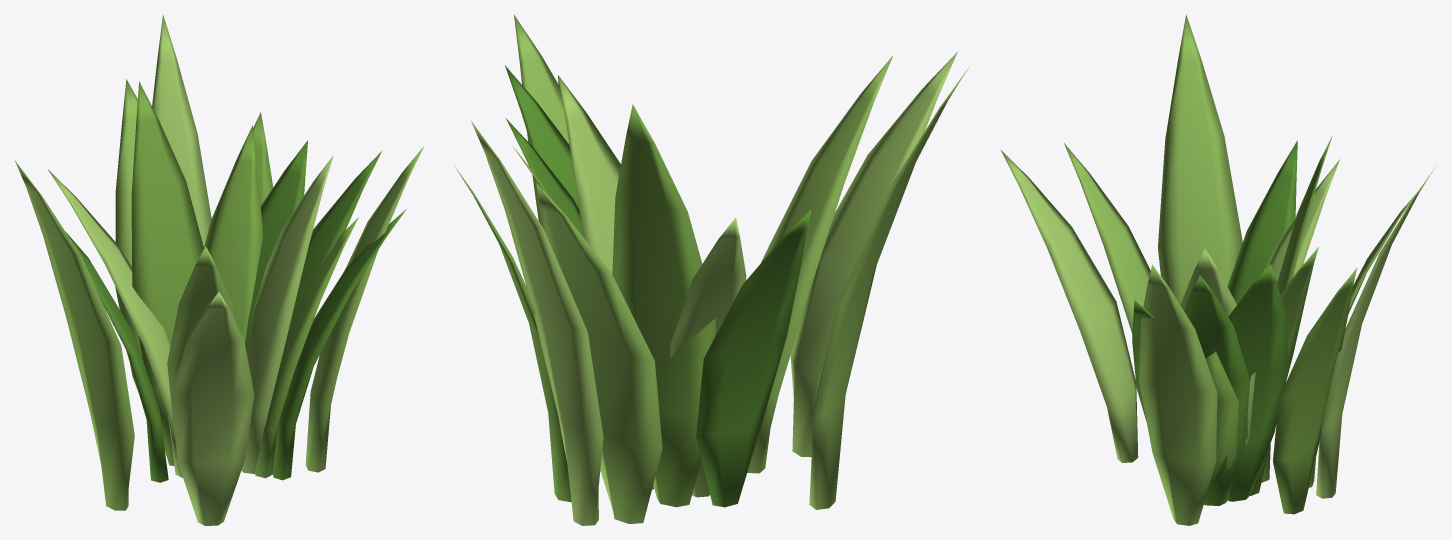
The model's file is foliage_grass_tall.glb.
3 views of the same model, side by side, from view 1: azimuth 30°, elevation 25°; view 2: azimuth 150°, elevation 25°; view 3: azimuth 270°, elevation 25° (orthographic). The views are drawn at different scales.
Parts seen in each view (by area): view 1: foliage_grass_tall; view 2: foliage_grass_tall; view 3: foliage_grass_tall.
Boxes of the visible parts, x1,y1,x2,y2 form: foliage_grass_tall: [14, 14, 423, 525]; foliage_grass_tall: [455, 15, 970, 525]; foliage_grass_tall: [1000, 14, 1435, 525].
Bounding box in the file's own units: 0.8056 × 0.7469 × 0.8091.
